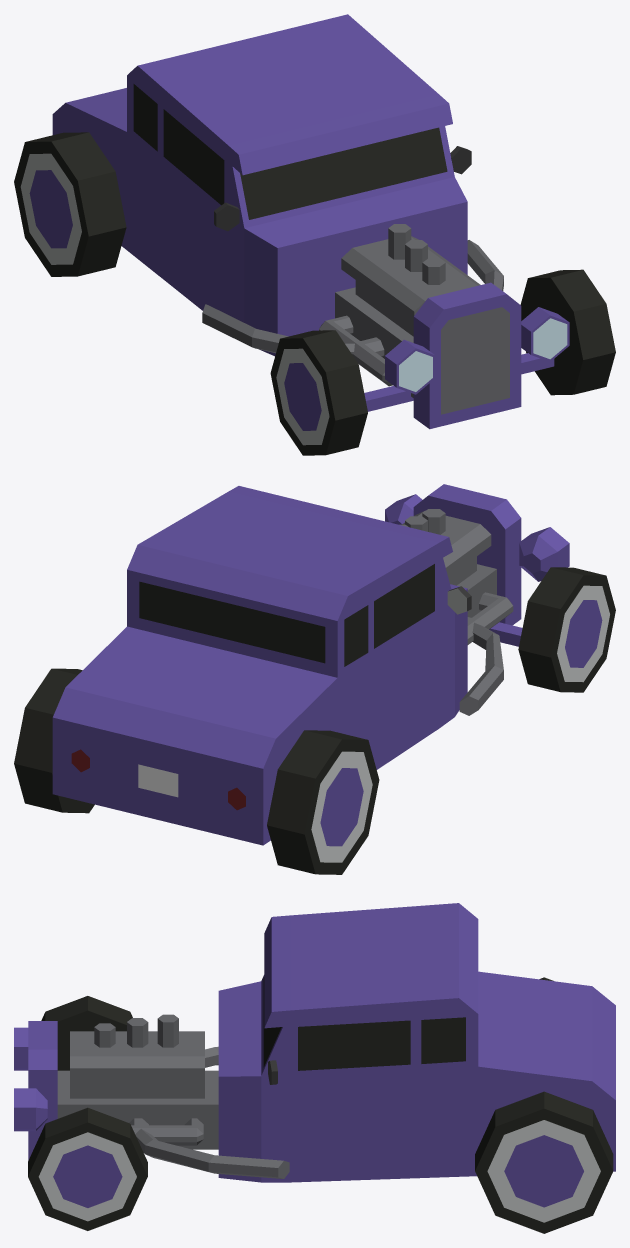
File: Veh_HotRod_Purple.obj
The picture shows the model from 3 angles, top to bottom: view 1: azimuth 30°, elevation 25°; view 2: azimuth 150°, elevation 25°; view 3: azimuth 270°, elevation 25°; orthographic projection. The views are drawn at different scales.
Size of the model in its own units: 1.21 by 0.9391 by 2.35.
